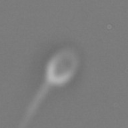normal: (14, 82, 54, 128)
